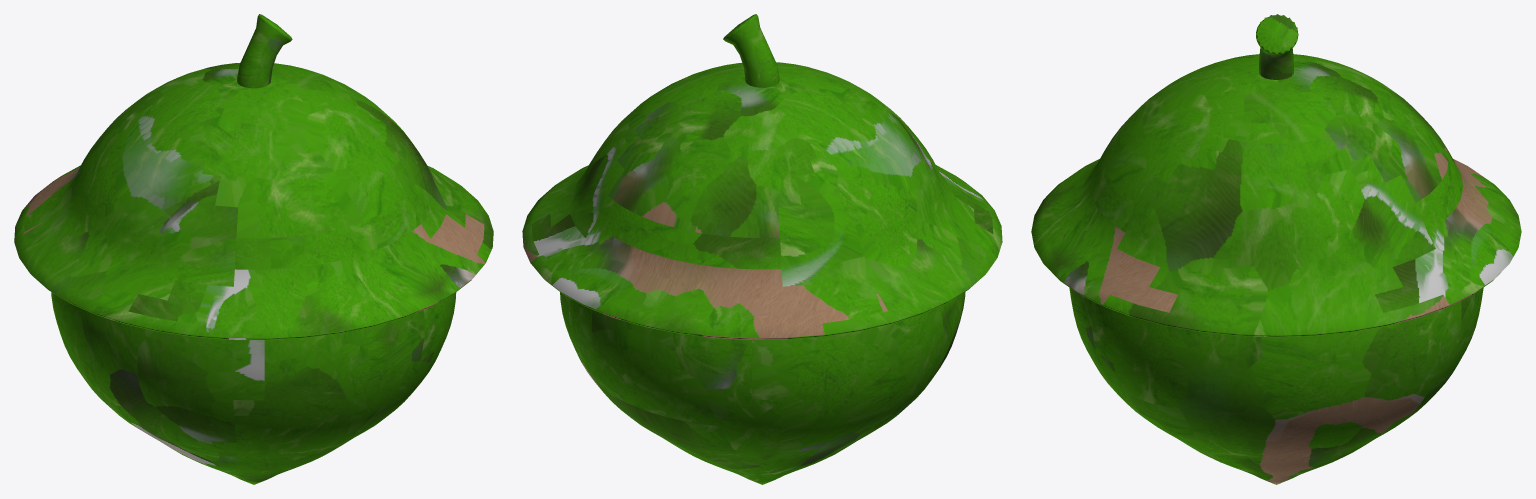
Rendered from AcordnTextured.fbx.
3 views of the same model, side by side, from view 1: azimuth 30°, elevation 25°; view 2: azimuth 150°, elevation 25°; view 3: azimuth 270°, elevation 25° (orthographic). The views are drawn at different scales.
Parts seen in each view (by area): view 1: pSphere12; view 2: pSphere12; view 3: pSphere12.
Boxes of the visible parts, bbox=[...] form: pSphere12: bbox=[14, 14, 493, 484]; pSphere12: bbox=[522, 14, 1002, 484]; pSphere12: bbox=[1031, 14, 1521, 484].
Bounding box in the file's own units: 9.18 × 9.83 × 9.18.
